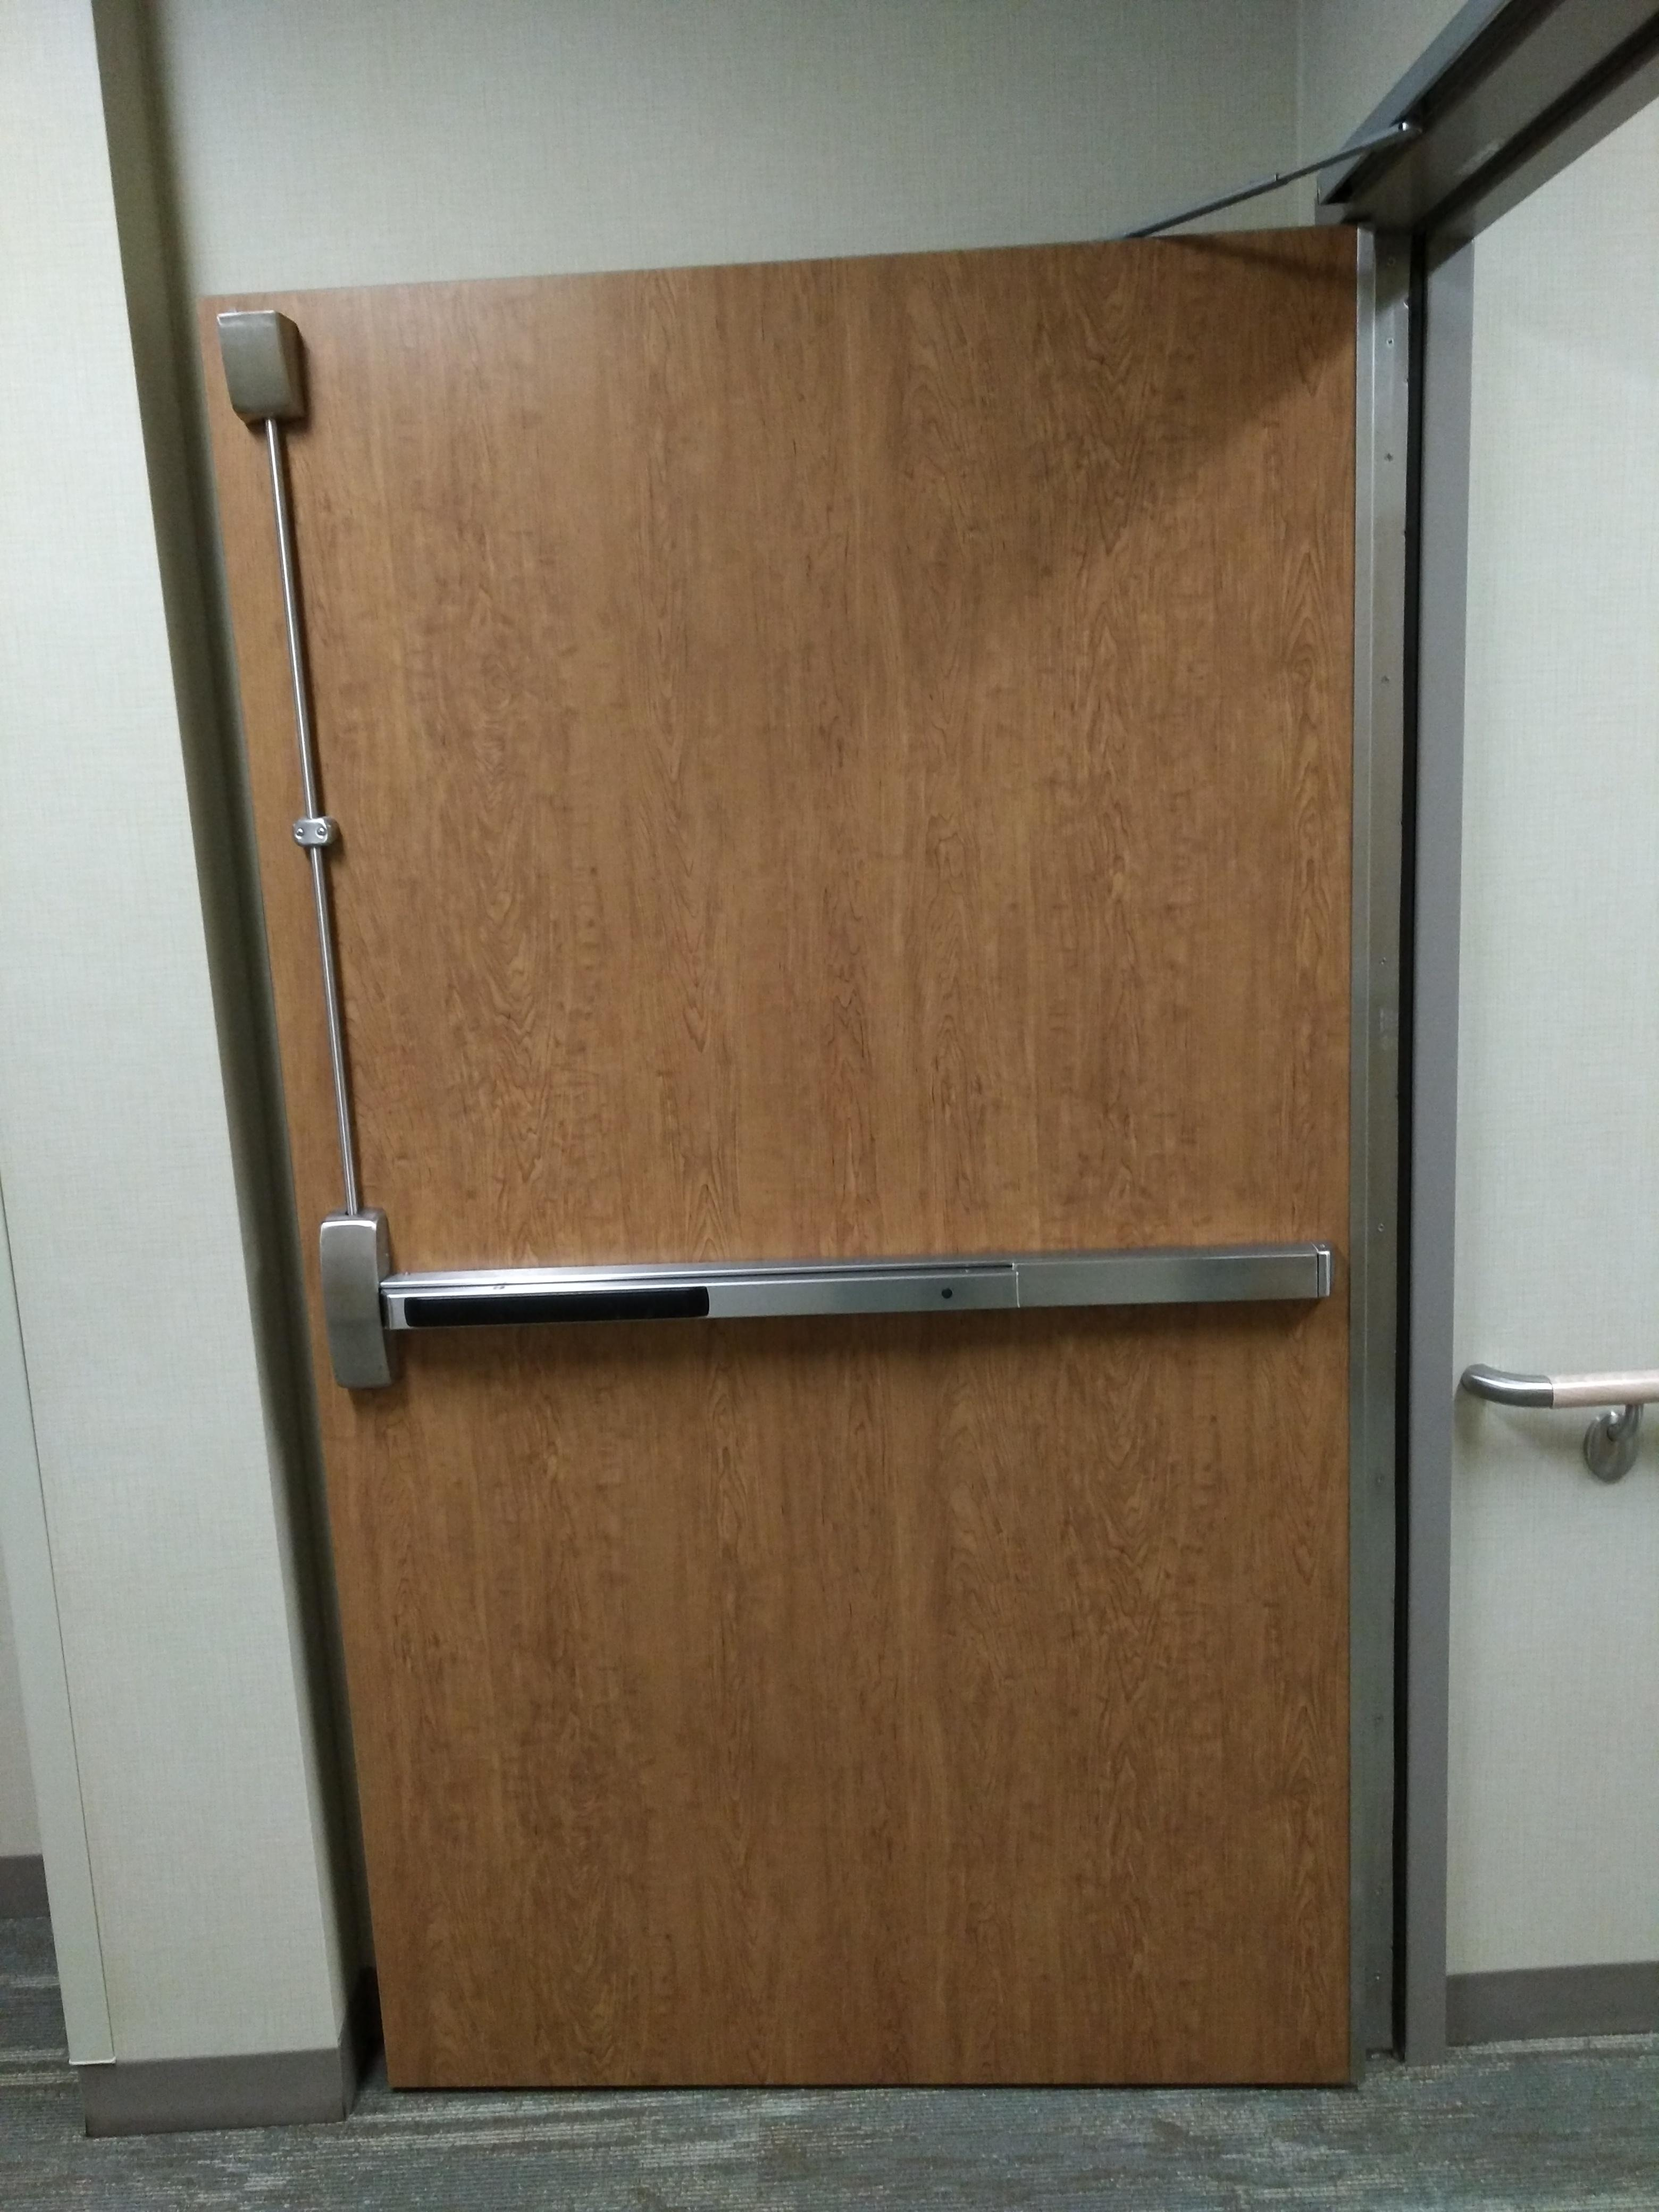door: (176, 275, 1380, 2127)
